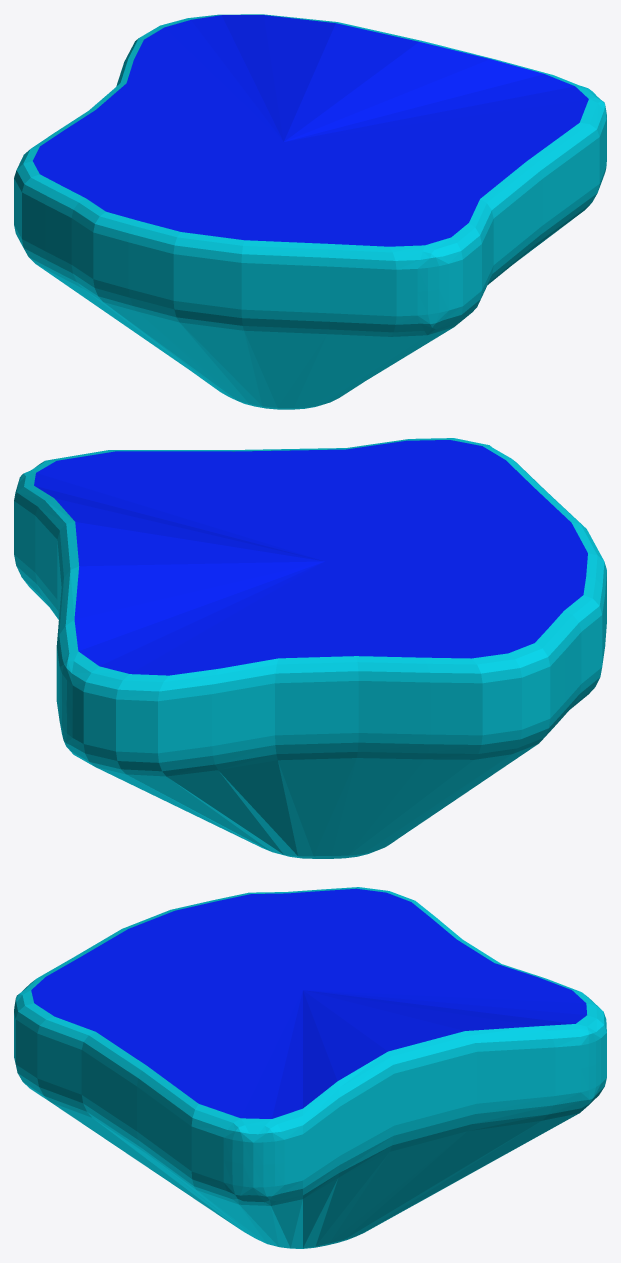
The model's file is partners_island.glb.
The picture shows the model from 3 angles, top to bottom: view 1: azimuth 30°, elevation 25°; view 2: azimuth 150°, elevation 25°; view 3: azimuth 270°, elevation 25°; orthographic projection. The views are drawn at different scales.
Visible parts, largest first — view 1: Cylinder.007; view 2: Cylinder.007; view 3: Cylinder.007.
Part boxes in pixels (x1=…): Cylinder.007: x1=14, y1=14, x2=606, y2=409; Cylinder.007: x1=14, y1=438, x2=606, y2=858; Cylinder.007: x1=14, y1=887, x2=606, y2=1248.
Size of the model in its own units: 3.43 by 1.69 by 3.49.
